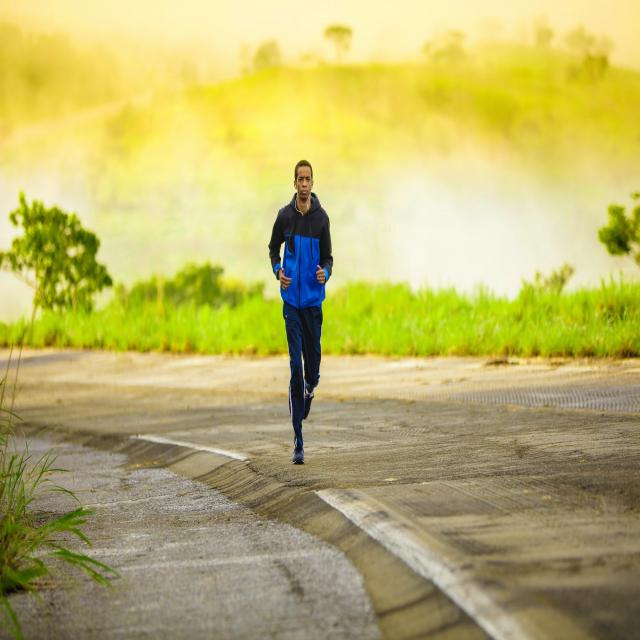adult: (269, 157, 336, 467)
